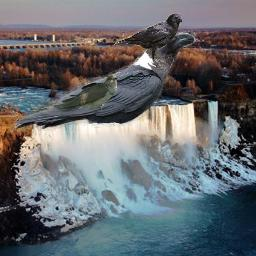Crow: (13, 32, 196, 131), (112, 13, 182, 69)
Cuckoo: (30, 74, 118, 114)
